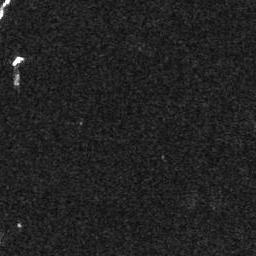ship: (11, 56, 24, 67)
